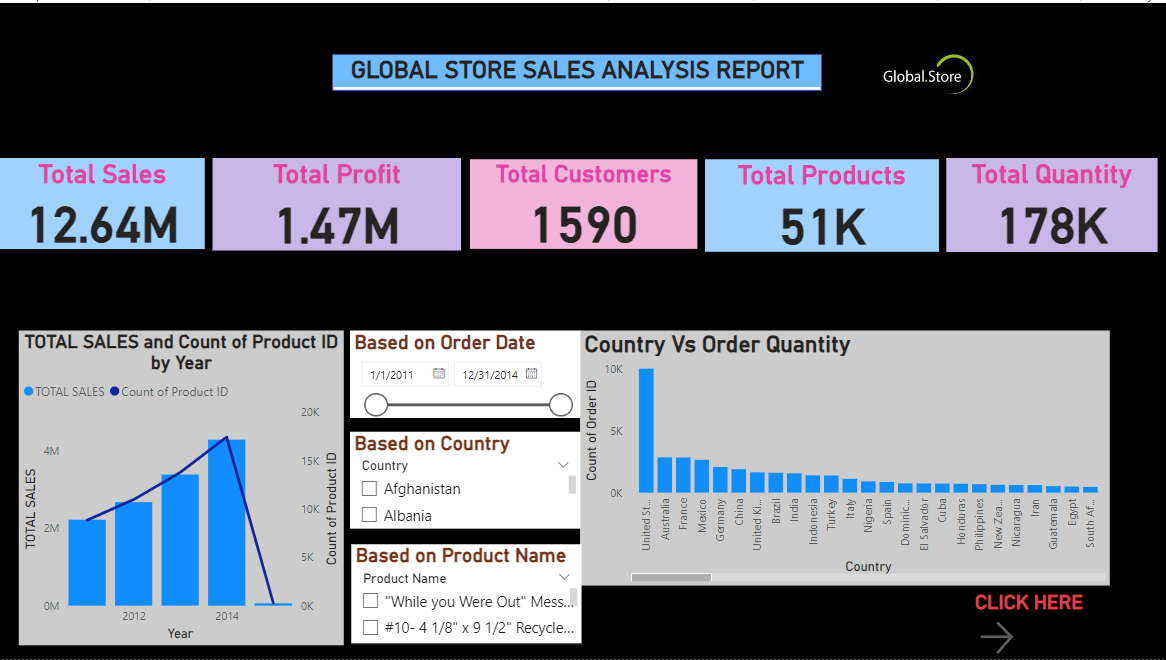

What the dashboard file says about the page in this screenshot:
{"tool":"powerbi","page":{"name":"Page 1","canvas":[1280,720],"ordinal":0},"visuals":[{"type":"card","title":"Total Sales","fields":{"Values":["Orders.TOTAL SALES"]},"box":[0,170.2,225,100.2],"z":0,"group":"g2"},{"type":"lineClusteredColumnComboChart","fields":{"Y":["Orders.TOTAL SALES"],"Y2":["CountNonNull(Orders.Product ID)"],"Category":["Orders.Ship Date.Variation.Date Hierarchy.Year"]},"box":[20.6,359.5,356.8,345.8],"z":1000},{"type":"card","title":"Total Products","fields":{"Values":["Orders.Data Product Count"]},"box":[773.6,171.6,256.6,101.5],"z":2000,"group":"g2"},{"type":"card","title":"Total Profit","fields":{"Values":["Orders.Total Profit"]},"box":[233.6,170.2,273.1,101.5],"z":3000,"group":"g2"},{"type":"slicer","title":"Based on Order Date","fields":{"Values":["Orders.Order Date"]},"box":[384.2,359.5,252.5,96.1],"z":4000,"group":"g1"},{"type":"columnChart","title":"Country Vs Order Quantity","fields":{"Category":["Orders.Country"],"Y":["CountNonNull(Orders.Order ID)"]},"box":[636.7,359.5,581.8,279.9],"z":4000},{"type":"slicer","title":"Based on Country","fields":{"Values":["Orders.Country"]},"box":[384.6,471.1,253,106.3],"z":5000,"group":"g1"},{"type":"actionButton","title":"CLICK HERE","box":[1070.3,644.9,209.9,75.5],"z":5000},{"type":"card","title":"Total Customers","fields":{"Values":["Orders.Customer Count"]},"box":[515.3,171.6,249.7,98.8],"z":6000,"group":"g2"},{"type":"slicer","title":"Based on Product Name","fields":{"Values":["Orders.Product Name"]},"box":[385.8,594.6,253,108.8],"z":6000,"group":"g1"},{"type":"group","id":"g1","title":"Group 2","box":[384.2,359.5,255.2,343.1],"z":7000},{"type":"textbox","title":"GLOBAL STORE SALES ANALYSIS REPORT","box":[365,56.3,536.5,39.8],"z":8000},{"type":"image","box":[861.8,0,314.2,171.5],"z":9000},{"type":"card","title":"Total Quantity","fields":{"Values":["Sum(Orders.Quantity)"]},"box":[1038.8,170.2,231.9,102.9],"z":10000,"group":"g2"},{"type":"group","id":"g2","title":"Group 1","box":[0,170.2,1270.7,102.9],"z":10001}]}

Visuals, with their boxes in screenshot pixels (x1, y1, x2, y2), scaled from the page's 1280x720 canvas onto the 1166x660 screenshot:
"Total Sales" card: 0 156 205 248
lineClusteredColumnComboChart - Orders.TOTAL SALES x CountNonNull(Orders.Product ID): 19 330 344 647
"Total Products" card: 705 157 938 250
"Total Profit" card: 213 156 462 249
"Based on Order Date" slicer: 350 330 580 418
"Country Vs Order Quantity" columnChart: 580 330 1110 586
"Based on Country" slicer: 350 432 581 529
"CLICK HERE" actionButton: 975 591 1165 659
"Total Customers" card: 469 157 697 248
"Based on Product Name" slicer: 351 545 582 645
"Group 2" group: 350 330 582 644
"GLOBAL STORE SALES ANALYSIS REPORT" textbox: 332 52 821 88
image: 785 0 1071 157
"Total Quantity" card: 946 156 1158 250
"Group 1" group: 0 156 1158 250
